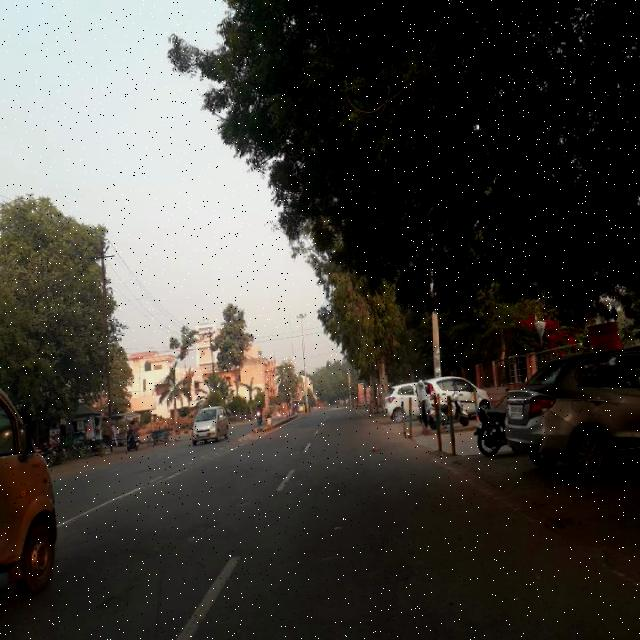D44: (523, 514, 640, 584), (449, 463, 520, 511)
